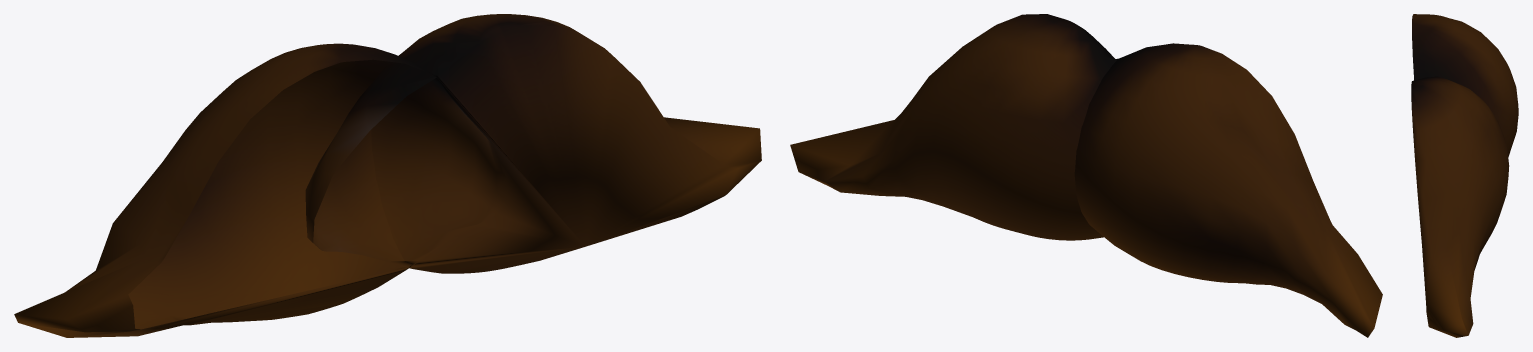
The model's file is mustache.fbx.
The picture shows the model from 3 angles, left to right: view 1: azimuth 30°, elevation 25°; view 2: azimuth 150°, elevation 25°; view 3: azimuth 270°, elevation 25°; orthographic projection. The views are drawn at different scales.
Parts seen in each view (by area): view 1: Sphere.001; view 2: Sphere.001; view 3: Sphere.001.
Boxes of the visible parts, x1,y1,x2,y2 form: Sphere.001: [14, 14, 761, 337]; Sphere.001: [790, 14, 1382, 337]; Sphere.001: [1411, 14, 1518, 337].
Bounding box in the file's own units: 108 × 37.37 × 19.87.
